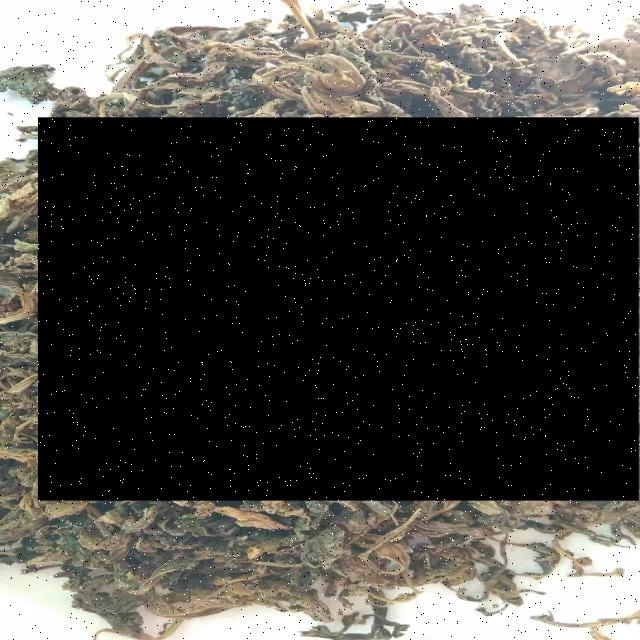Gundruk: (38, 117, 640, 501)
